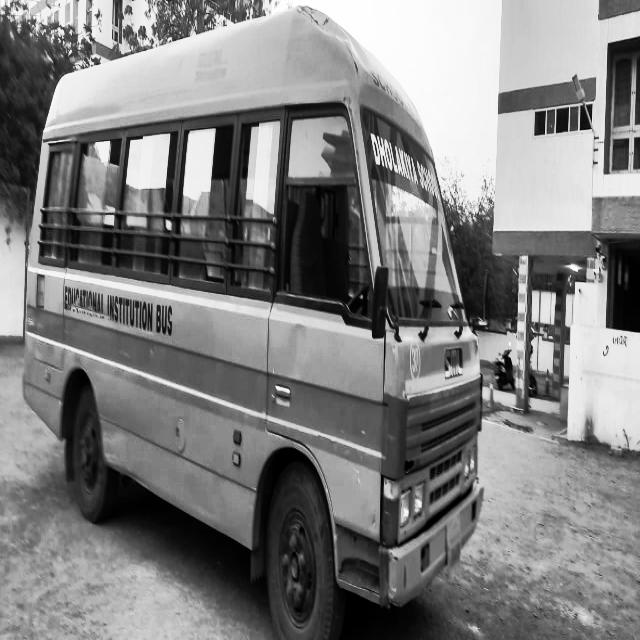Bus: (21, 4, 502, 632)
